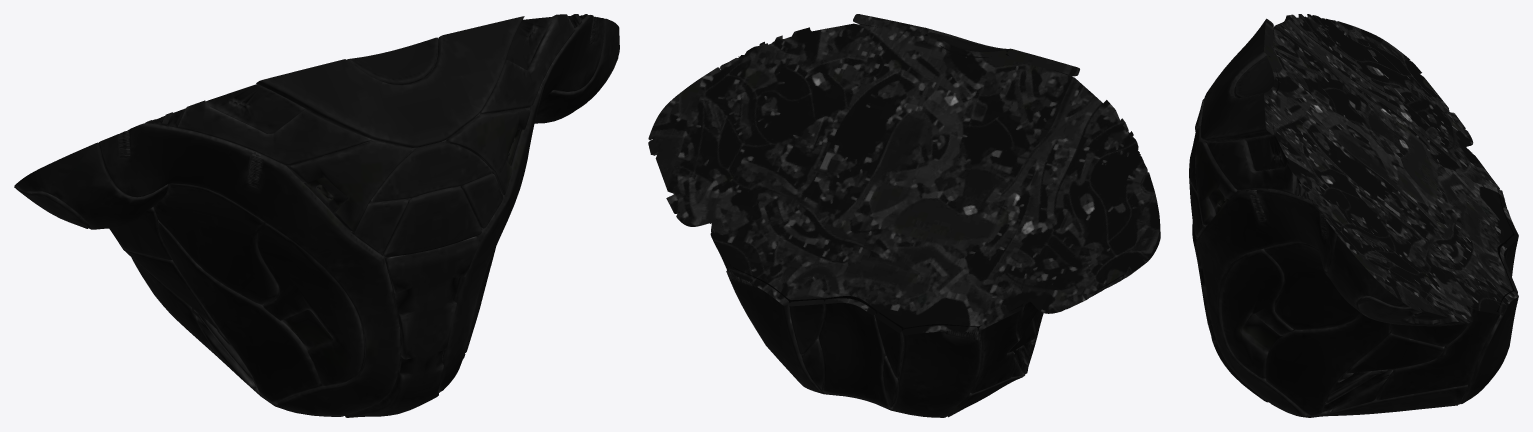
Rendered from robot1forward-compressed.glb.
3 views of the same model, side by side, from view 1: azimuth 30°, elevation 25°; view 2: azimuth 150°, elevation 25°; view 3: azimuth 270°, elevation 25° (orthographic). The views are drawn at different scales.
Visible parts, largest first — view 1: Object_2; view 2: Object_2; view 3: Object_2.
Boxes of the visible parts, box(x1,y1,x2,y2) form: Object_2: box(14, 14, 619, 417); Object_2: box(648, 14, 1160, 417); Object_2: box(1189, 14, 1518, 417).
Bounding box in the file's own units: 0.9453 × 0.5621 × 0.5293.
1 material, 1 textured.
